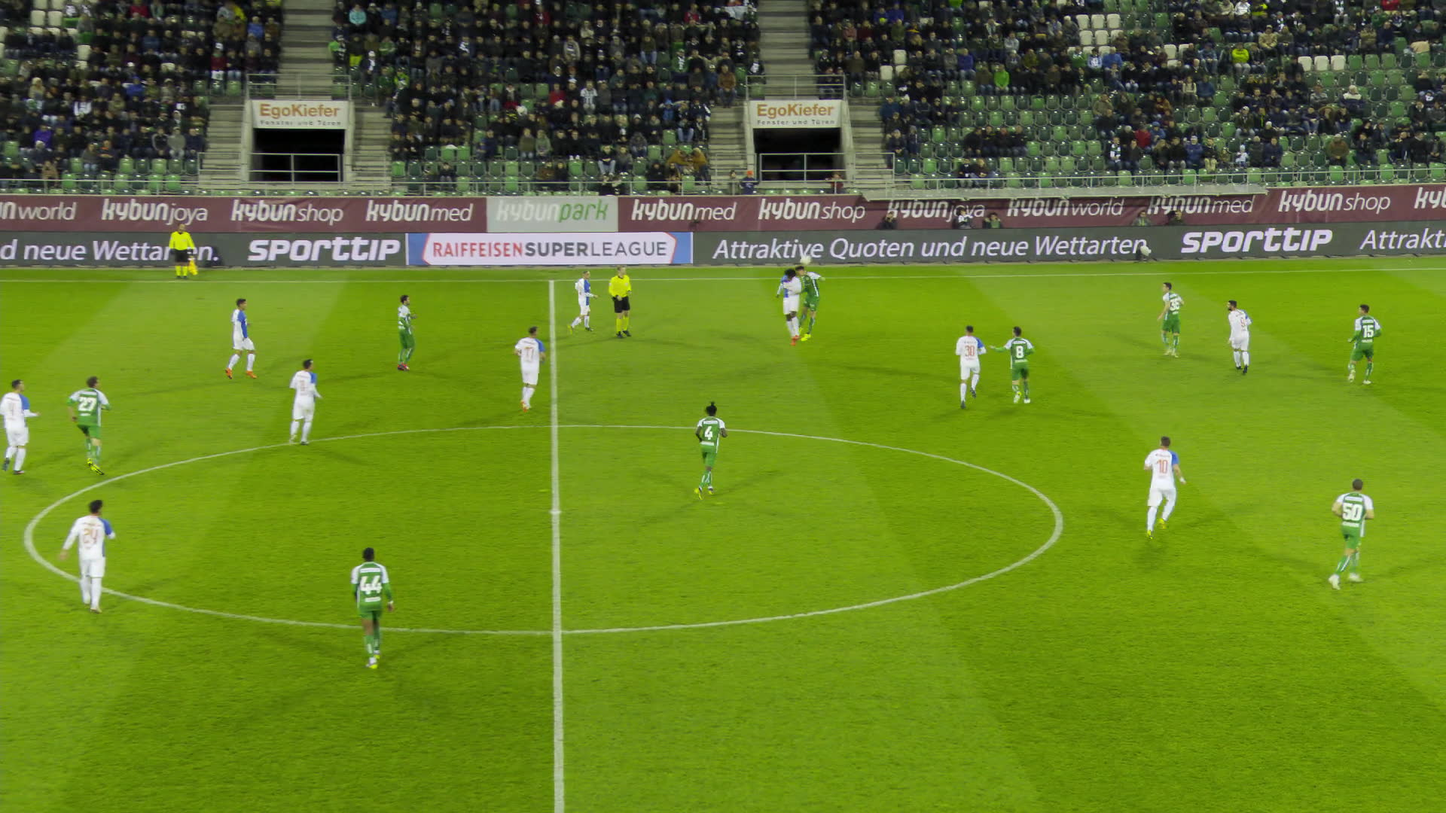ball: (792, 242, 803, 254)
player: (59, 498, 116, 610), (1322, 477, 1371, 578), (1139, 438, 1186, 540), (358, 545, 397, 665), (63, 373, 109, 473), (10, 376, 46, 476), (1343, 303, 1383, 390), (692, 400, 727, 499), (992, 326, 1033, 407), (291, 358, 325, 446), (950, 324, 987, 399), (517, 327, 549, 413), (1219, 298, 1253, 373), (1151, 285, 1187, 354), (226, 302, 258, 378), (795, 262, 825, 342), (776, 269, 806, 344), (392, 294, 419, 372), (569, 265, 595, 336)
referee: (609, 267, 634, 340), (174, 223, 206, 278)
